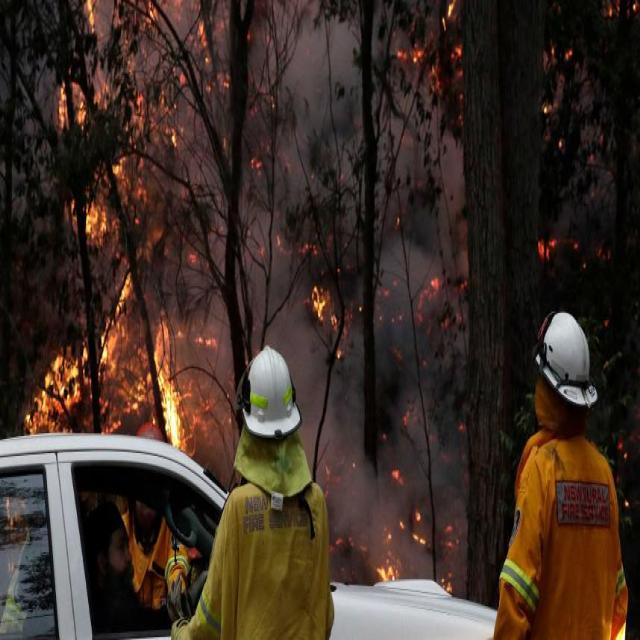fire: (39, 0, 220, 471), (361, 460, 461, 594), (305, 255, 354, 383)
other: (511, 433, 629, 637)
